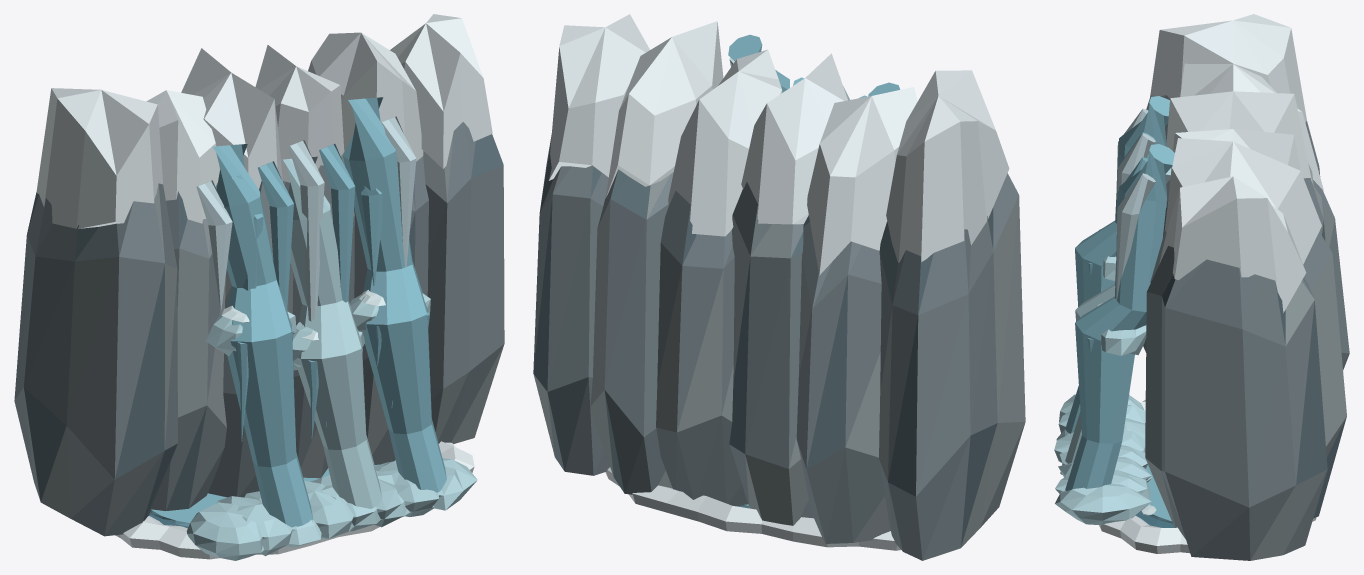
Rendered from HERO_02_FrozenWaterfall.glb.
The picture shows the model from 3 angles, left to right: view 1: azimuth 30°, elevation 25°; view 2: azimuth 150°, elevation 25°; view 3: azimuth 270°, elevation 25°; orthographic projection. The views are drawn at different scales.
Parts seen in each view (by area): view 1: HERO_02_FrozenWaterfall; view 2: HERO_02_FrozenWaterfall; view 3: HERO_02_FrozenWaterfall.
Boxes of the visible parts, x1,y1,x2,y2 form: HERO_02_FrozenWaterfall: [14, 14, 504, 560]; HERO_02_FrozenWaterfall: [533, 14, 1025, 560]; HERO_02_FrozenWaterfall: [1054, 14, 1349, 560].
Size of the model in its own units: 8.34 by 7.97 by 5.4.
